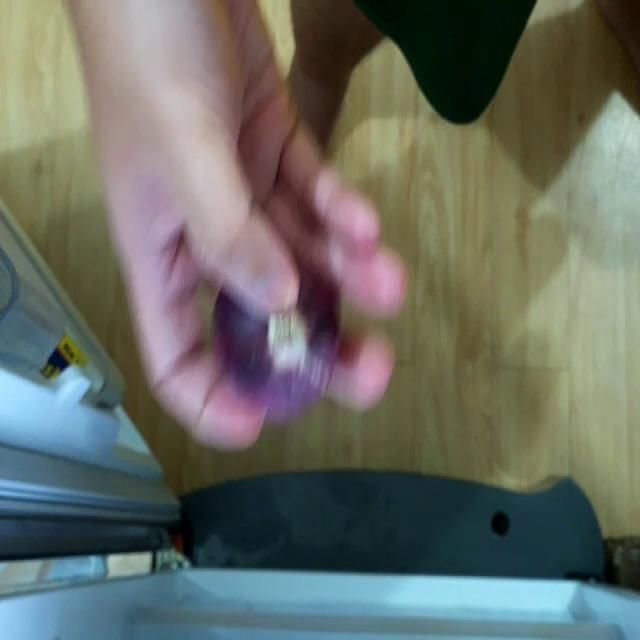onion: (213, 248, 352, 421)
